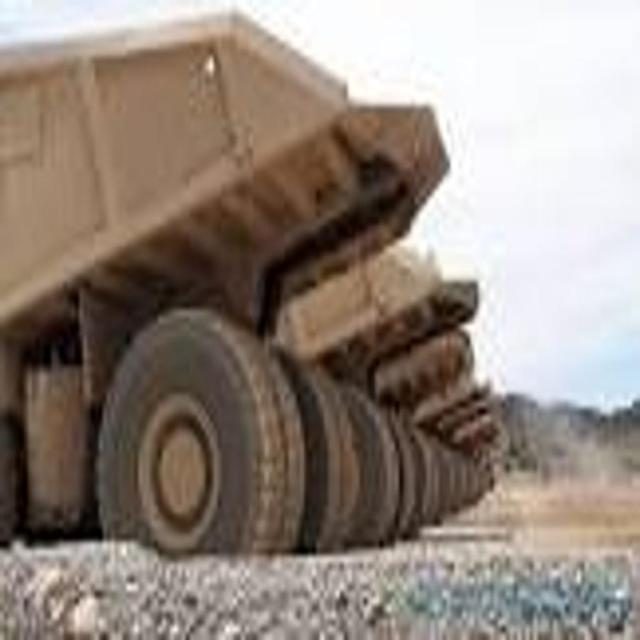dump_truck: (0, 51, 463, 564)
